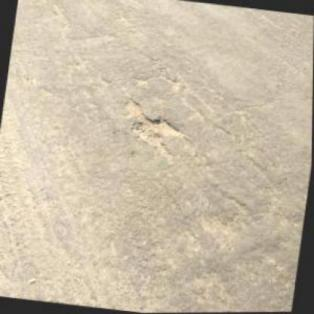Hueco: (129, 114, 189, 150), (122, 97, 144, 114)
